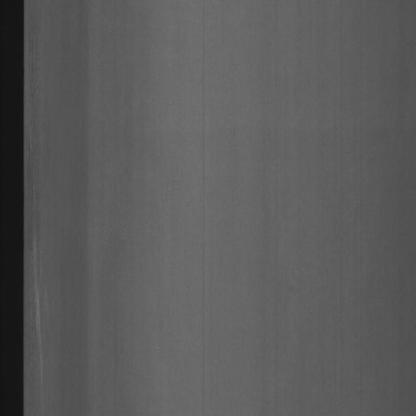silk_spot: (27, 33, 52, 398)
